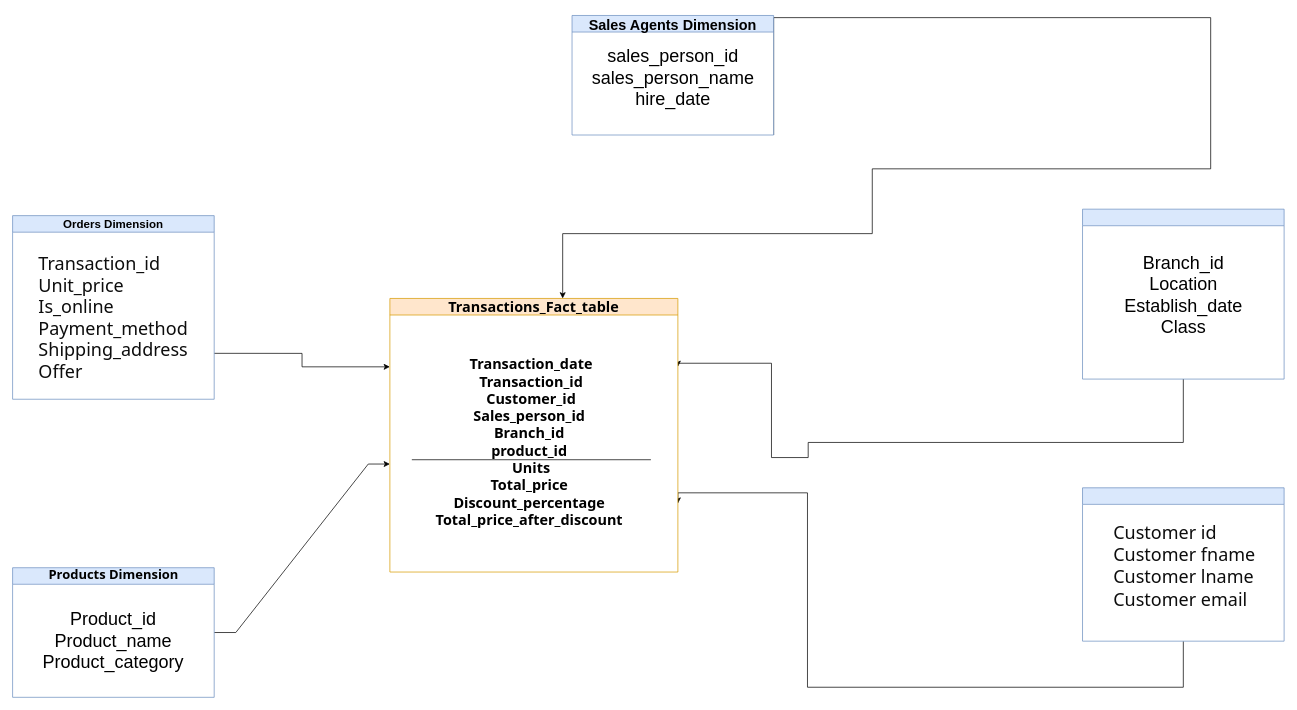
Some shapes in this 1297 by 710 pixel diagram are drawn without their labels. Here are the shapes that lost their labels. From the top down, the box of each, then its label:
(1082, 208, 1284, 379): B ranches Dimension
(1082, 487, 1284, 641): C ustomers Dimension
